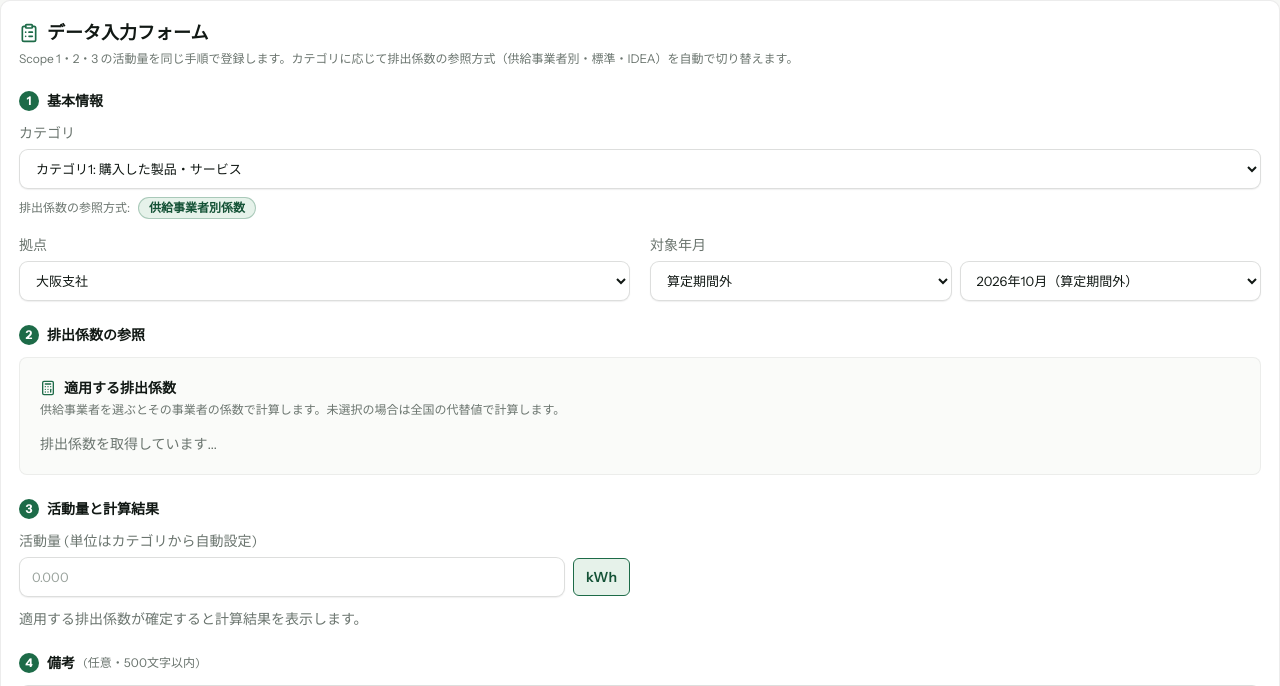
Test: ActivityEntryForm › IDEA 未取込: 案内を出して製品検索を無効化し、検索 API を呼ばない
Step 1. Select "カテゴリ1: 購入した製品・サービス" in the dropdown with id "manual-category-select" → (640, 169), box [19,149,1261,189]
Wait 300 ms
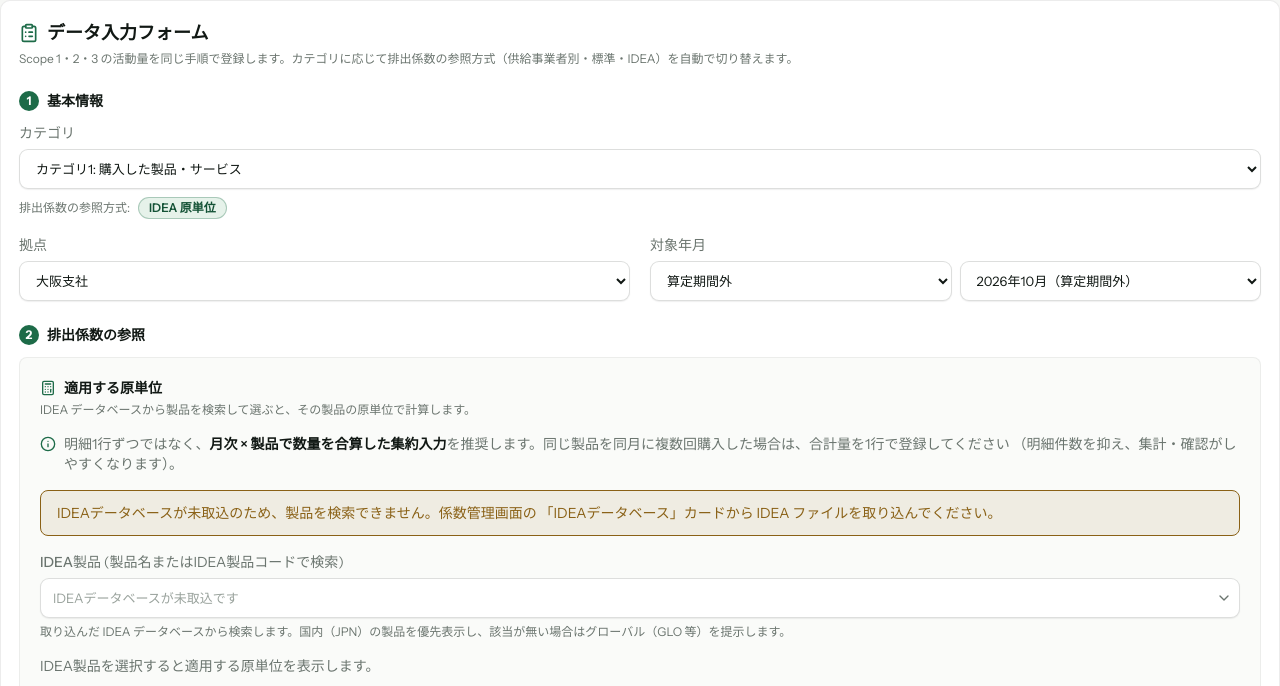
Now the text "IDEAデータベースが未取込のため" is shown, box [57,504,1002,522]
Now the dropdown with id "manual-product-select" is disabled, box [40,578,1240,618]
